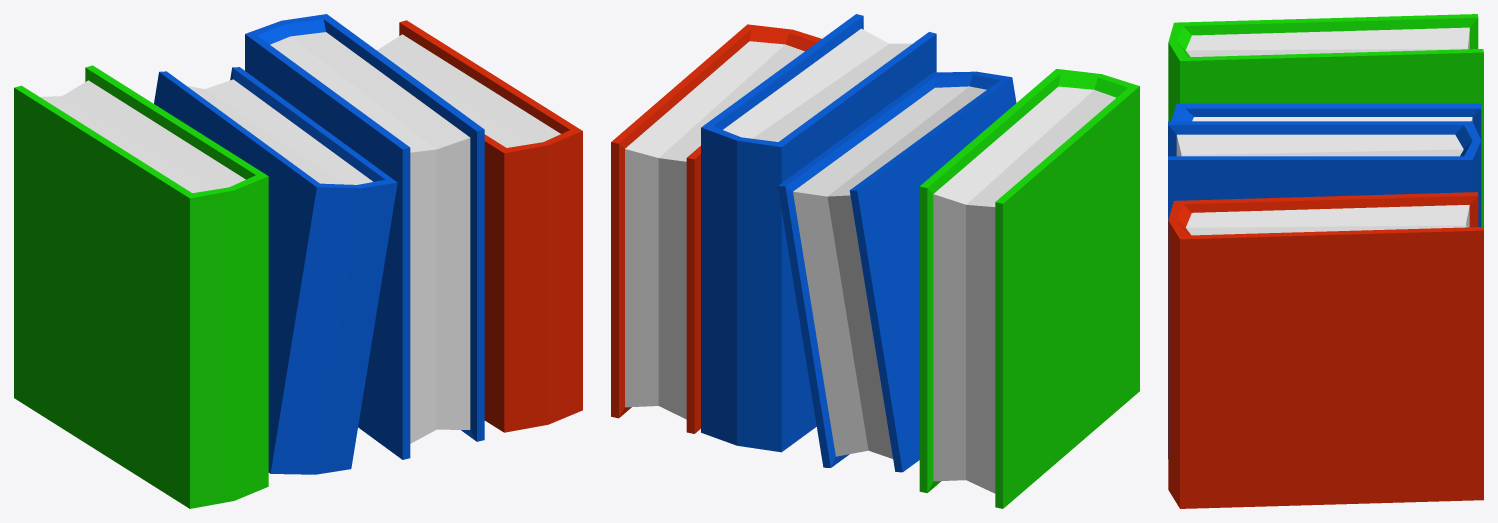
File: books.glb
The picture shows the model from 3 angles, left to right: view 1: azimuth 30°, elevation 25°; view 2: azimuth 150°, elevation 25°; view 3: azimuth 270°, elevation 25°; orthographic projection. The views are drawn at different scales.
Parts seen in each view (by area): view 1: BooksVertical; view 2: BooksVertical; view 3: BooksVertical.
Boxes of the visible parts, box(x1,y1,x2,y2) form: BooksVertical: box(14, 14, 582, 508); BooksVertical: box(611, 14, 1139, 508); BooksVertical: box(1168, 14, 1483, 508).
Size of the model in its own units: 0.485 by 0.3483 by 0.3319.
Materials: 1 (1 with a texture image).
